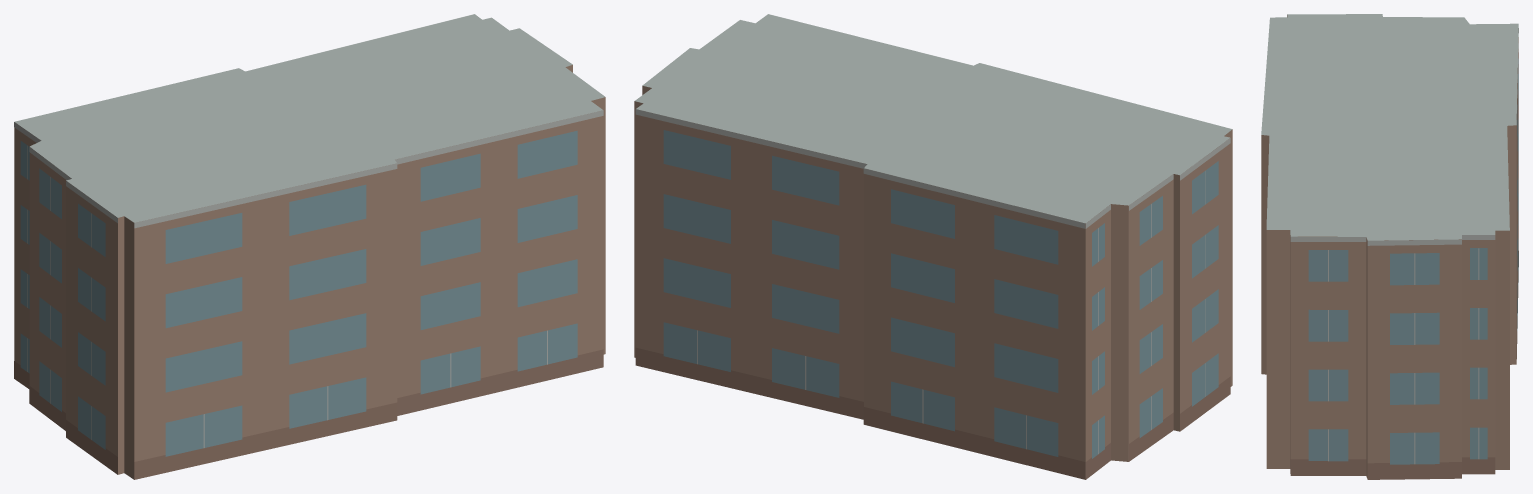
Rendered from survey-upis-32629396.glb.
3 renders of one model, left to right at view 1: azimuth 30°, elevation 25°; view 2: azimuth 150°, elevation 25°; view 3: azimuth 270°, elevation 25°, orthographic. The views are drawn at different scales.
Visible parts, largest first — view 1: survey-upis-32629396.tmp; view 2: survey-upis-32629396.tmp; view 3: survey-upis-32629396.tmp.
Boxes of the visible parts, left/top/right/bottom form: survey-upis-32629396.tmp: left=14, top=14, right=605, bottom=479; survey-upis-32629396.tmp: left=634, top=14, right=1232, bottom=479; survey-upis-32629396.tmp: left=1261, top=14, right=1518, bottom=479.
Bounding box in the file's own units: 22.97 × 11.3 × 11.04.
